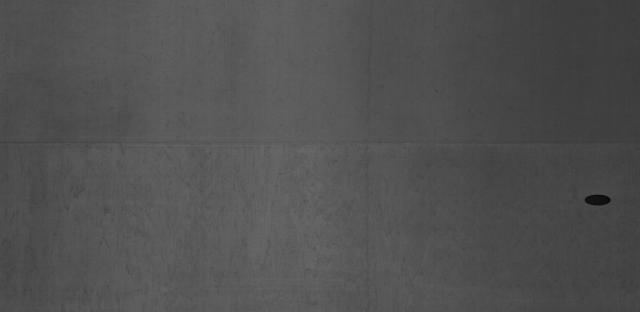punching_hole: (580, 191, 614, 208)
welding_line: (1, 133, 638, 153)
